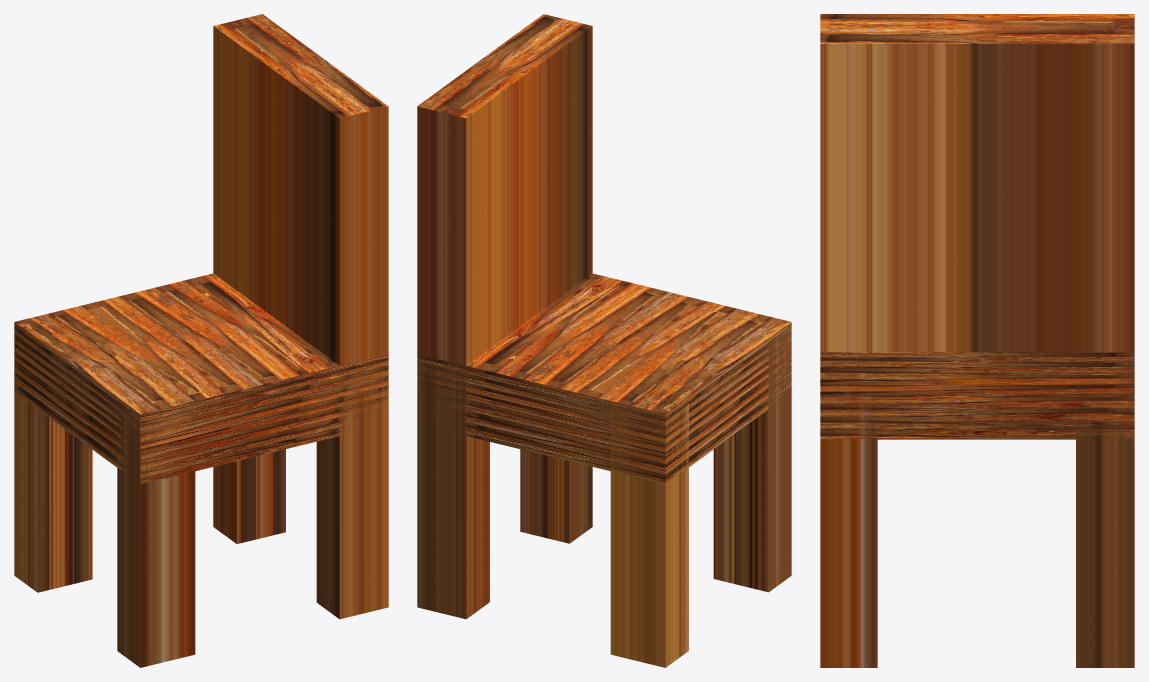
The model's file is stul.fbx.
3 renders of one model, left to right at view 1: azimuth 30°, elevation 25°; view 2: azimuth 150°, elevation 25°; view 3: azimuth 270°, elevation 25°, orthographic. The views are drawn at different scales.
Visible parts, largest first — view 1: Cube; view 2: Cube; view 3: Cube.
Part boxes in pixels (left/top/right/bottom): Cube: left=14, top=14, right=388, bottom=667; Cube: left=417, top=14, right=791, bottom=667; Cube: left=820, top=14, right=1134, bottom=667.
Size of the model in its own units: 214 by 413 by 189.
